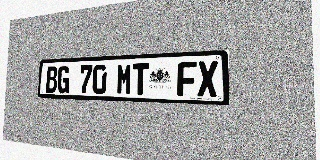0: (92, 64, 107, 94)
7: (79, 65, 93, 94)
B: (46, 66, 58, 93)
F: (177, 61, 197, 96)
G: (57, 66, 70, 93)
M: (116, 64, 132, 95)
T: (132, 63, 149, 95)
X: (197, 61, 218, 97)
